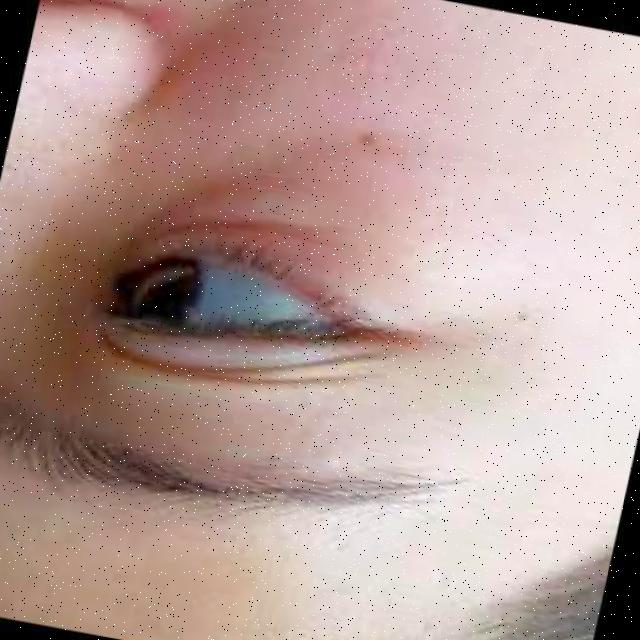puffy_eyes: (128, 155, 485, 292)
